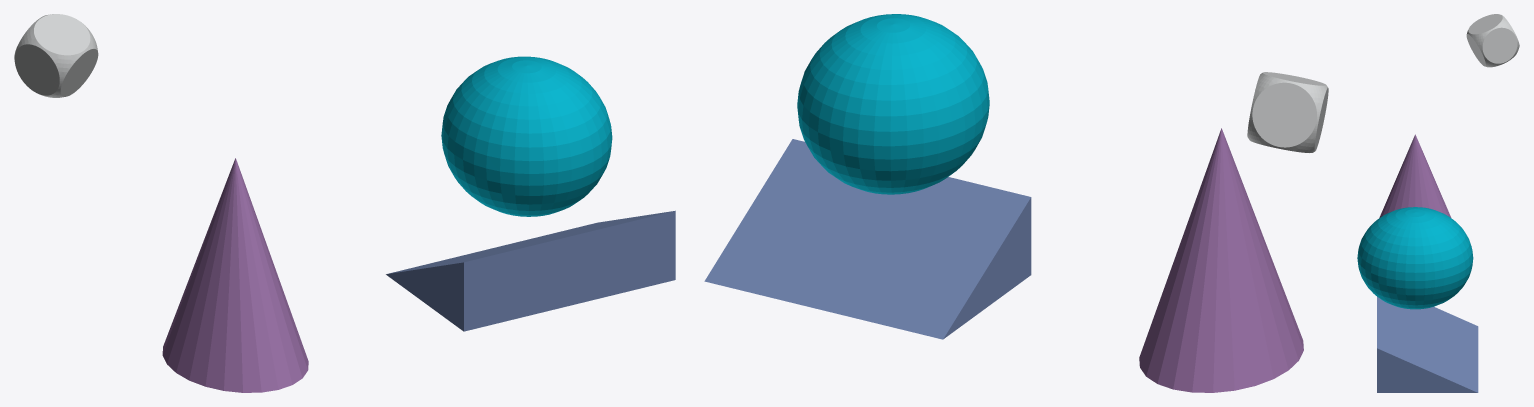
Rendered from tinker1.glb.
3 views of the same model, side by side, from view 1: azimuth 30°, elevation 25°; view 2: azimuth 150°, elevation 25°; view 3: azimuth 270°, elevation 25° (orthographic). The views are drawn at different scales.
Parts seen in each view (by area): view 1: Mesh_Mesh_head_geo.001_lambert2SG.001; view 2: Mesh_Mesh_head_geo.001_lambert2SG.001; view 3: Mesh_Mesh_head_geo.001_lambert2SG.001.
Part boxes in pixels (box(x1,y1,x2,y2)): Mesh_Mesh_head_geo.001_lambert2SG.001: box(14, 14, 675, 392); Mesh_Mesh_head_geo.001_lambert2SG.001: box(704, 14, 1328, 392); Mesh_Mesh_head_geo.001_lambert2SG.001: box(1357, 14, 1519, 392).
Size of the model in its own units: 170 by 93.28 by 65.76.
